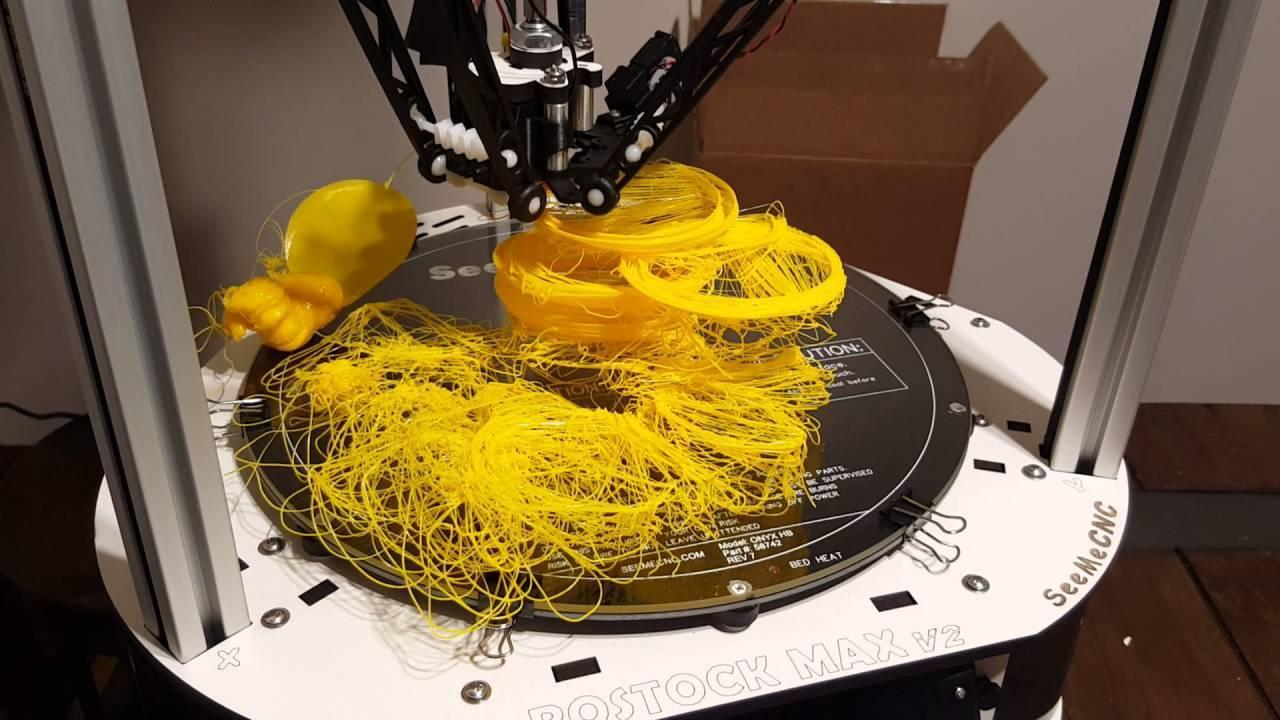Layer Shifting: (483, 214, 865, 325)
Spaghetti: (245, 344, 858, 629), (323, 298, 489, 344)
